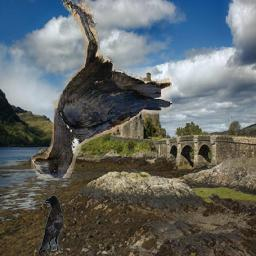Crow: (32, 0, 173, 178), (39, 196, 64, 255)
